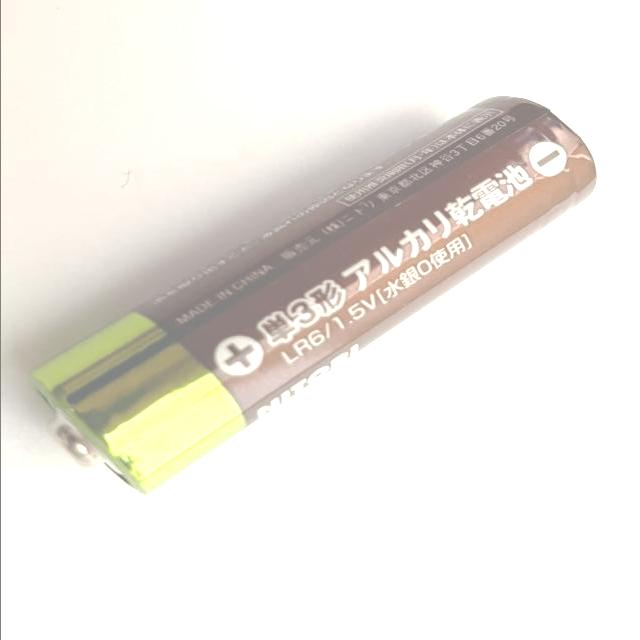AA: (24, 92, 598, 497)
